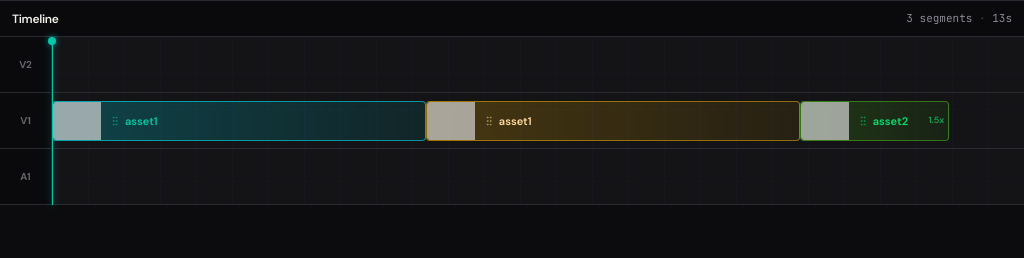
it: Timeline › shows details panel for selected segment
The image size is (1024, 258).
What coordinates should you click on to do the following:
click the option "asset2 1.5x"
I would click on:
 (874, 121)
Its box is 800,101 -> 949,141.
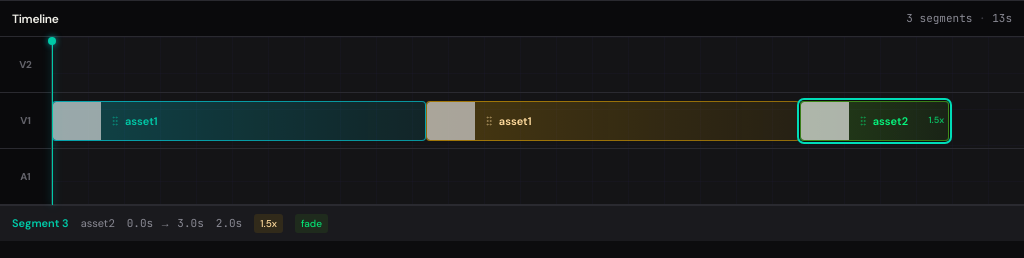
Now the text "Segment 3" is shown, box 12,215 -> 69,232
